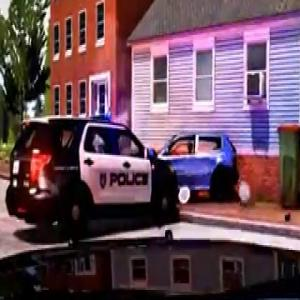moderate: (0, 105, 240, 240)
